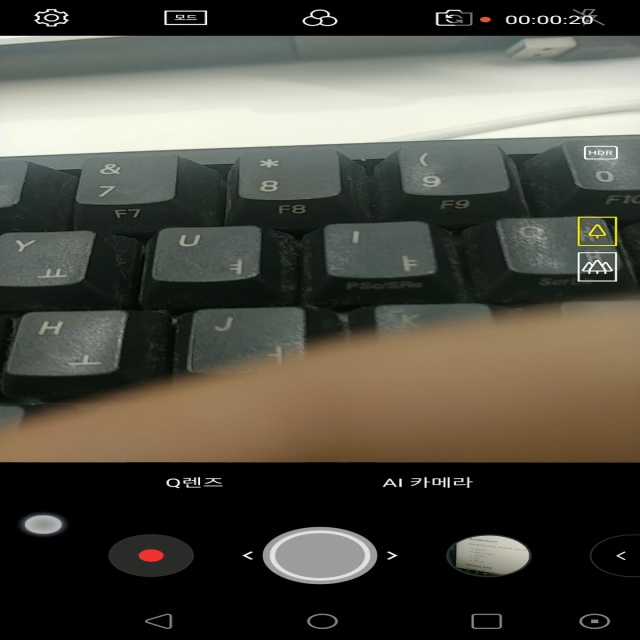Cursor: (22, 514, 66, 536)
